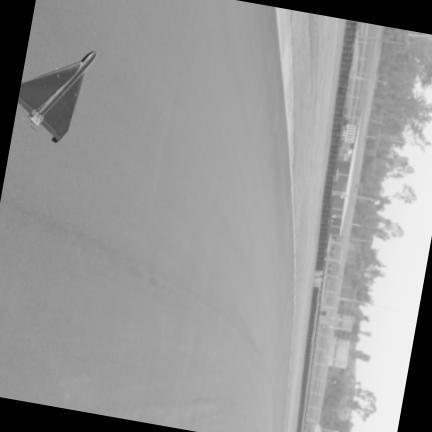Shahed: (17, 51, 95, 141)
